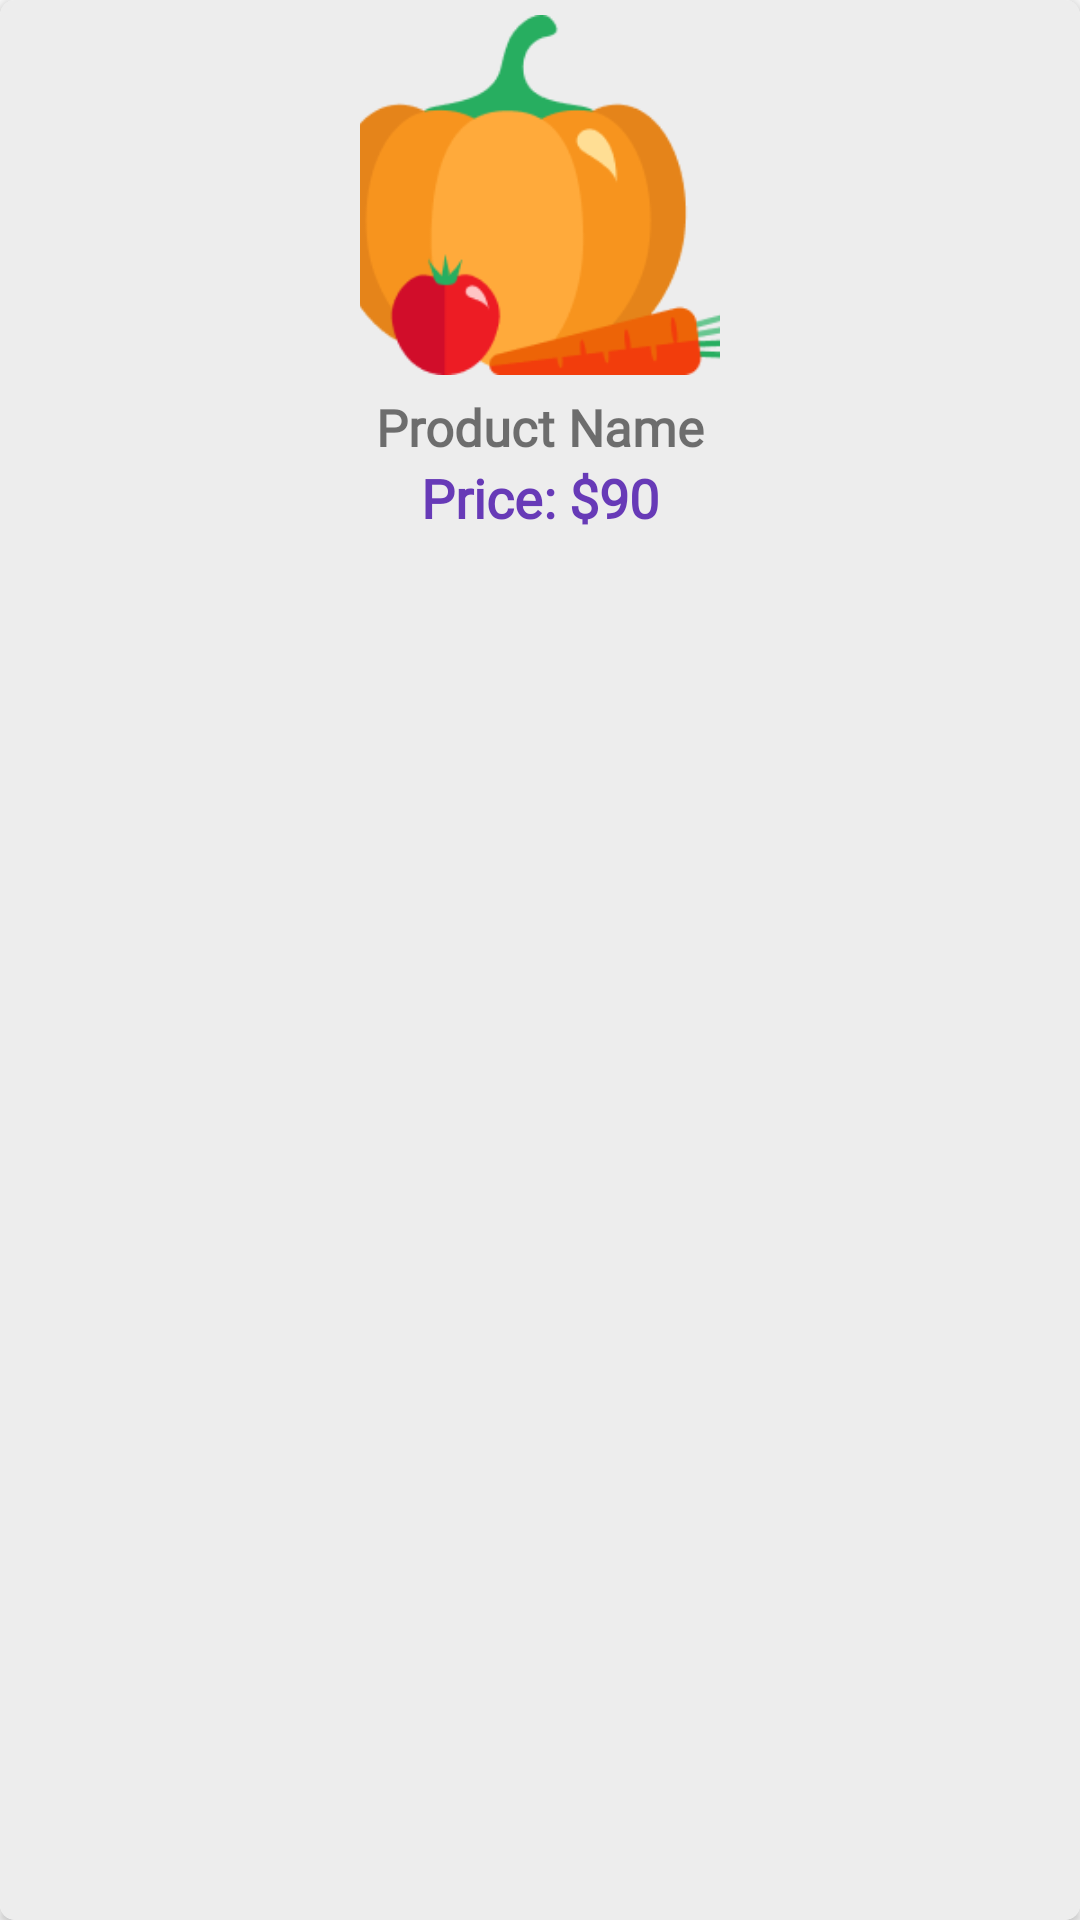

Screen size 1080 x 1920. Icon name, then its box in pixels as (x1, y1, x2, y2):
vegetables: (360, 15, 720, 375)
